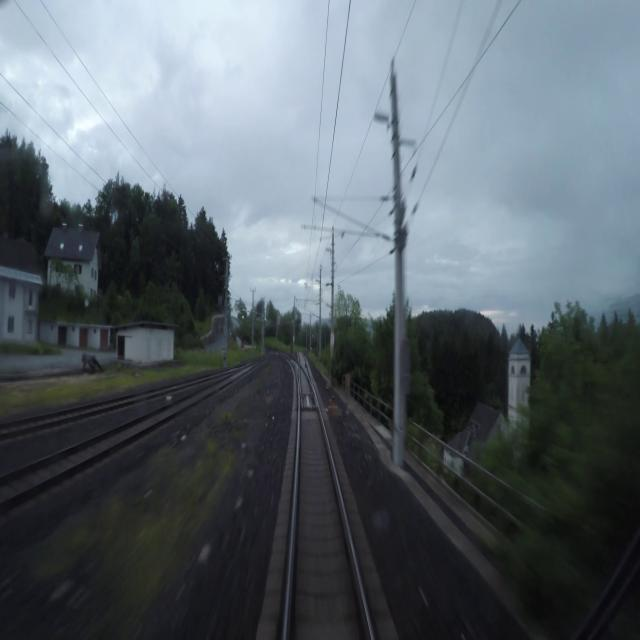rail-track: (287, 370, 370, 639), (0, 393, 201, 497), (0, 405, 101, 430)
